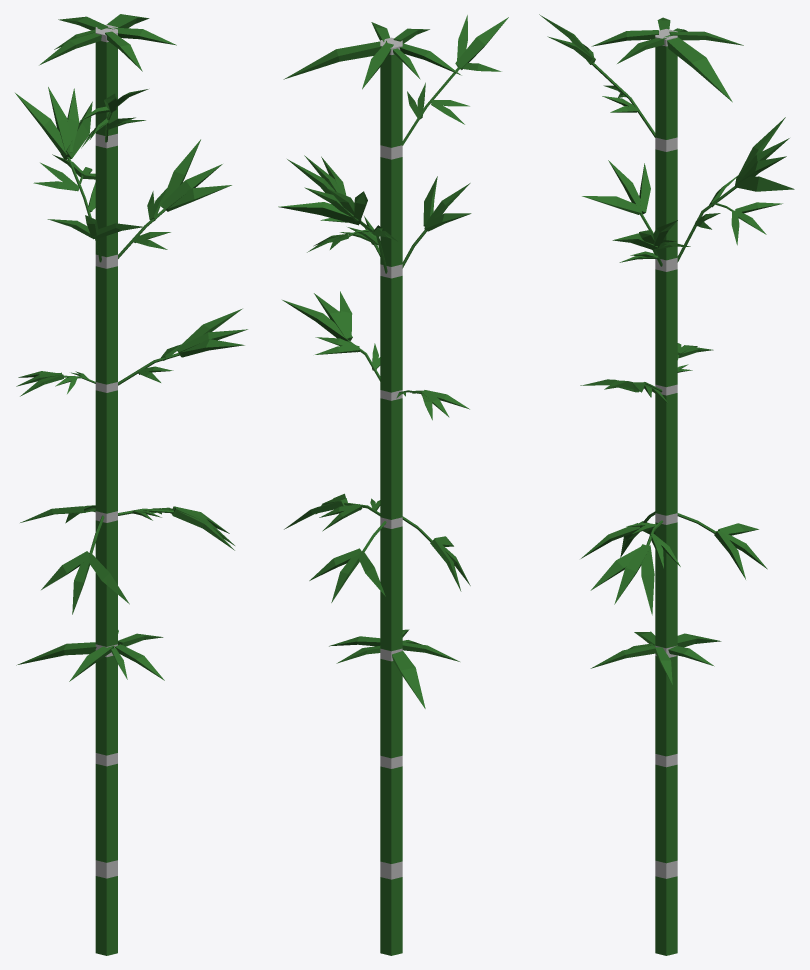
The model's file is bamboo2.FBX.
The picture shows the model from 3 angles, left to right: view 1: azimuth 30°, elevation 25°; view 2: azimuth 150°, elevation 25°; view 3: azimuth 270°, elevation 25°; orthographic projection.
Visible parts, largest first — view 1: bamboo2; view 2: bamboo2; view 3: bamboo2.
Boxes of the visible parts, x1,y1,x2,y2 form: bamboo2: (15, 14, 247, 955); bamboo2: (278, 15, 508, 955); bamboo2: (539, 14, 794, 955).
Size of the model in its own units: 84.36 by 90.65 by 357.
